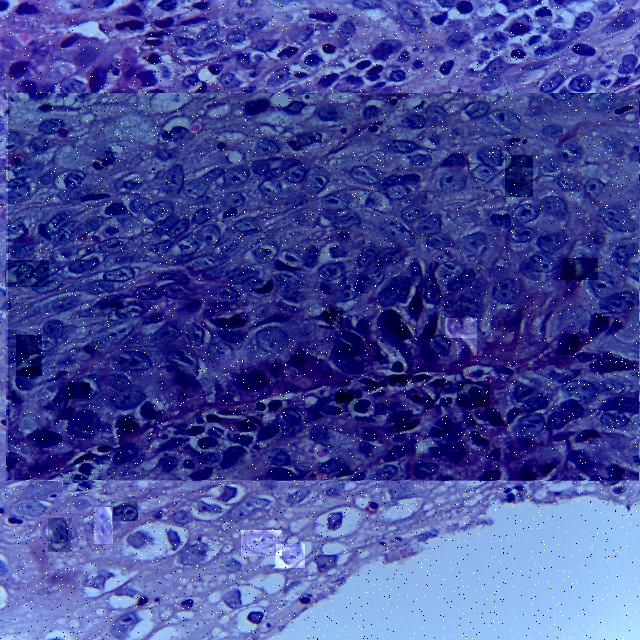Mitotic Figures: (67, 382, 89, 399)
Multiple Nucleol: (504, 156, 532, 198), (5, 260, 47, 287), (241, 530, 282, 556), (15, 336, 41, 376), (83, 301, 120, 325), (34, 271, 60, 305), (457, 381, 489, 407), (48, 518, 72, 551), (561, 259, 597, 281), (508, 290, 552, 307), (275, 544, 305, 568), (64, 473, 101, 492), (94, 507, 112, 544), (124, 274, 149, 299), (444, 319, 475, 338), (288, 272, 312, 296), (336, 391, 361, 413), (111, 501, 137, 521), (220, 350, 247, 369), (456, 336, 476, 361), (324, 307, 342, 329)
Nuclear Hyperchromatism: (8, 93, 638, 480)
